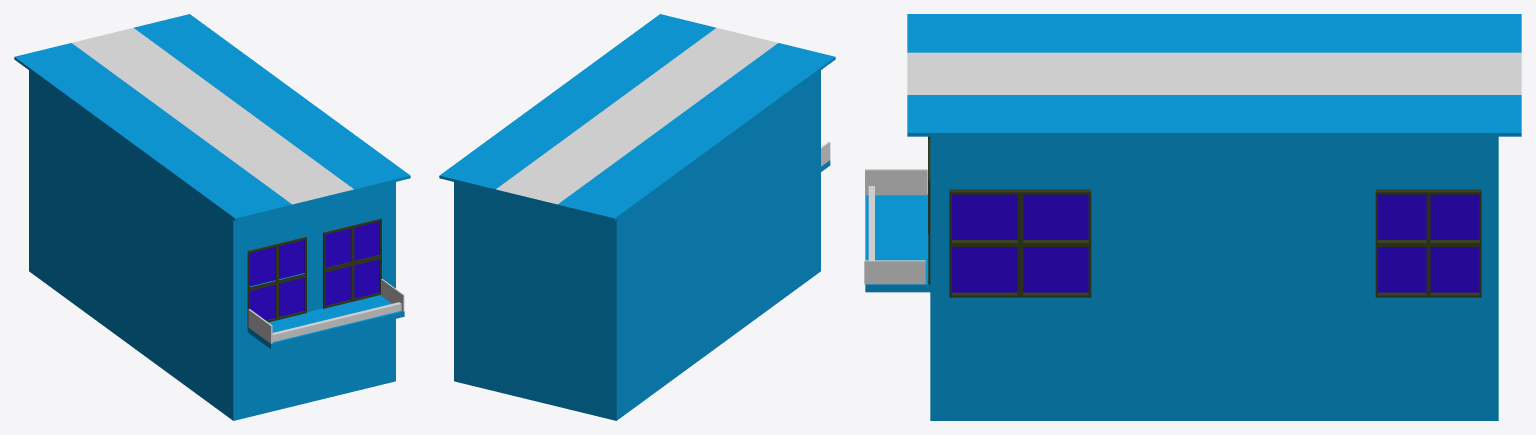
The model's file is Rooftop01.fbx.
The picture shows the model from 3 angles, left to right: view 1: azimuth 30°, elevation 25°; view 2: azimuth 150°, elevation 25°; view 3: azimuth 270°, elevation 25°; orthographic projection. The views are drawn at different scales.
Parts seen in each view (by area): view 1: Cube, Cube.003, Cube.001, Cube.002; view 2: Cube; view 3: Cube, Cube.001, Cube.002.
Boxes of the visible parts, x1,y1,x2,y2 form: Cube: (14,14,410,420); Cube.003: (272,302,401,341); Cube.001: (248,309,272,343); Cube.002: (381,279,404,311); Cube: (439,14,835,420); Cube: (865,14,1521,420); Cube.001: (865,169,927,195); Cube.002: (864,260,925,284).
Bounding box in the file's own units: 13464 × 15403 × 31393.
